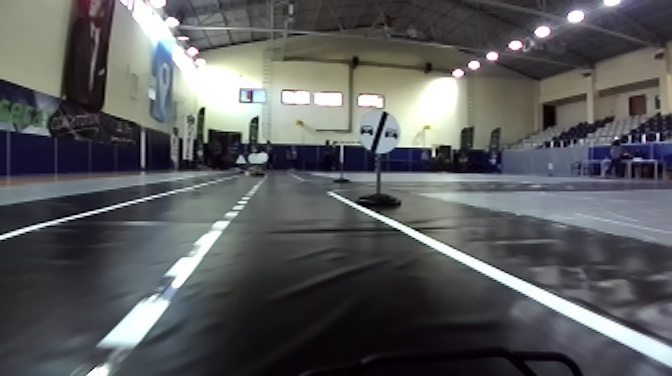sollama_serbest: (358, 110, 401, 156)
